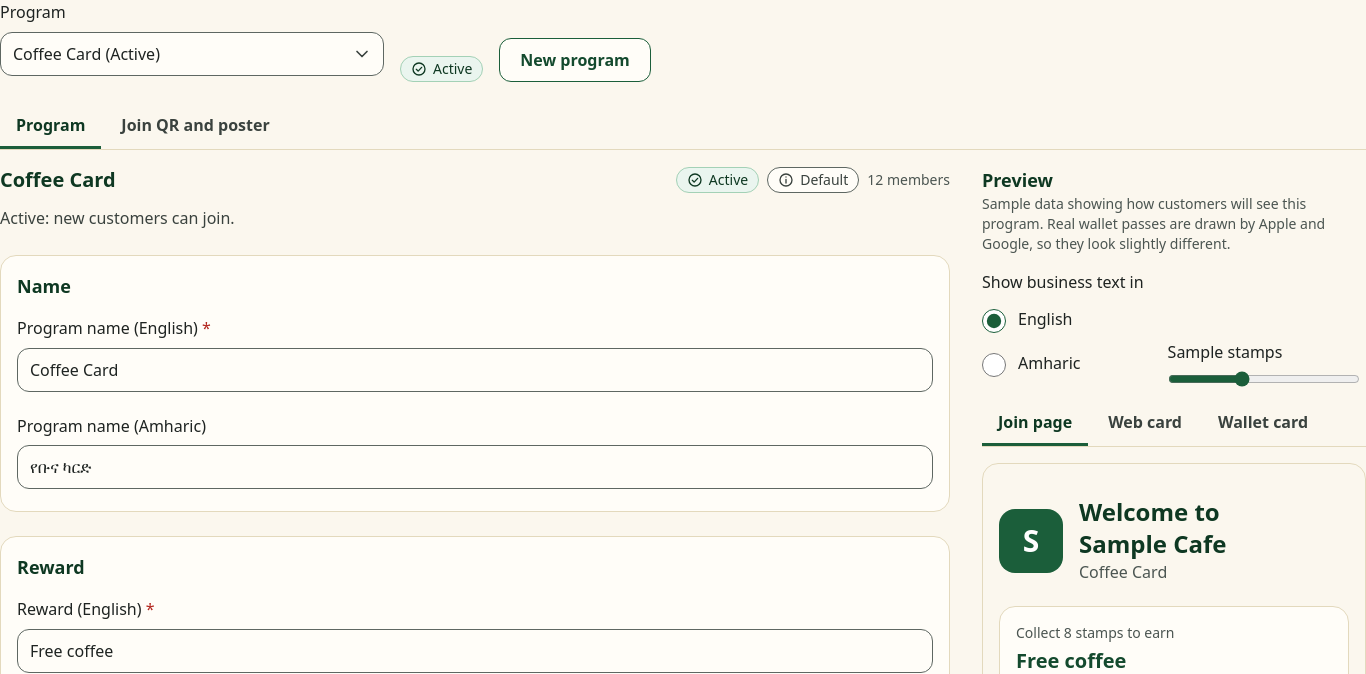
Test: editing and saving › starts with Save disabled and enables it only when something changed
Expected: the heading "Coffee Card" is shown, [0,166,116,194]
Type "!" into the field labelled "Program name (English) *". click: (475, 370)
box: [17,348,933,392]
(page scrolled)
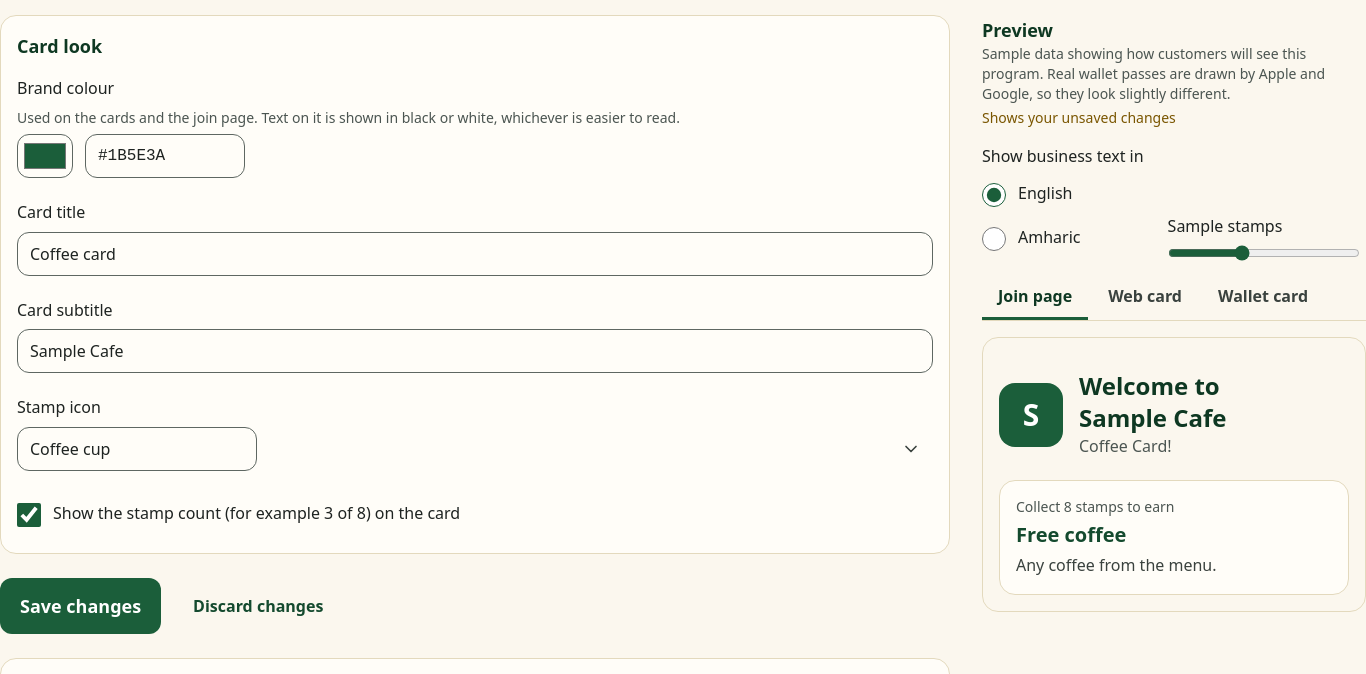
Expected: the button "Save changes" is enabled, [0,578,161,634]
